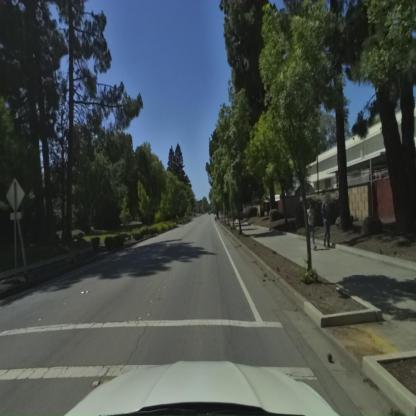person: (304, 198, 321, 250), (322, 195, 336, 248)
